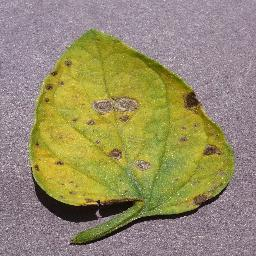Septoria: (30, 29, 236, 222)
